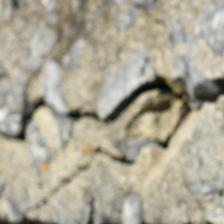Crack: (3, 37, 177, 110)
